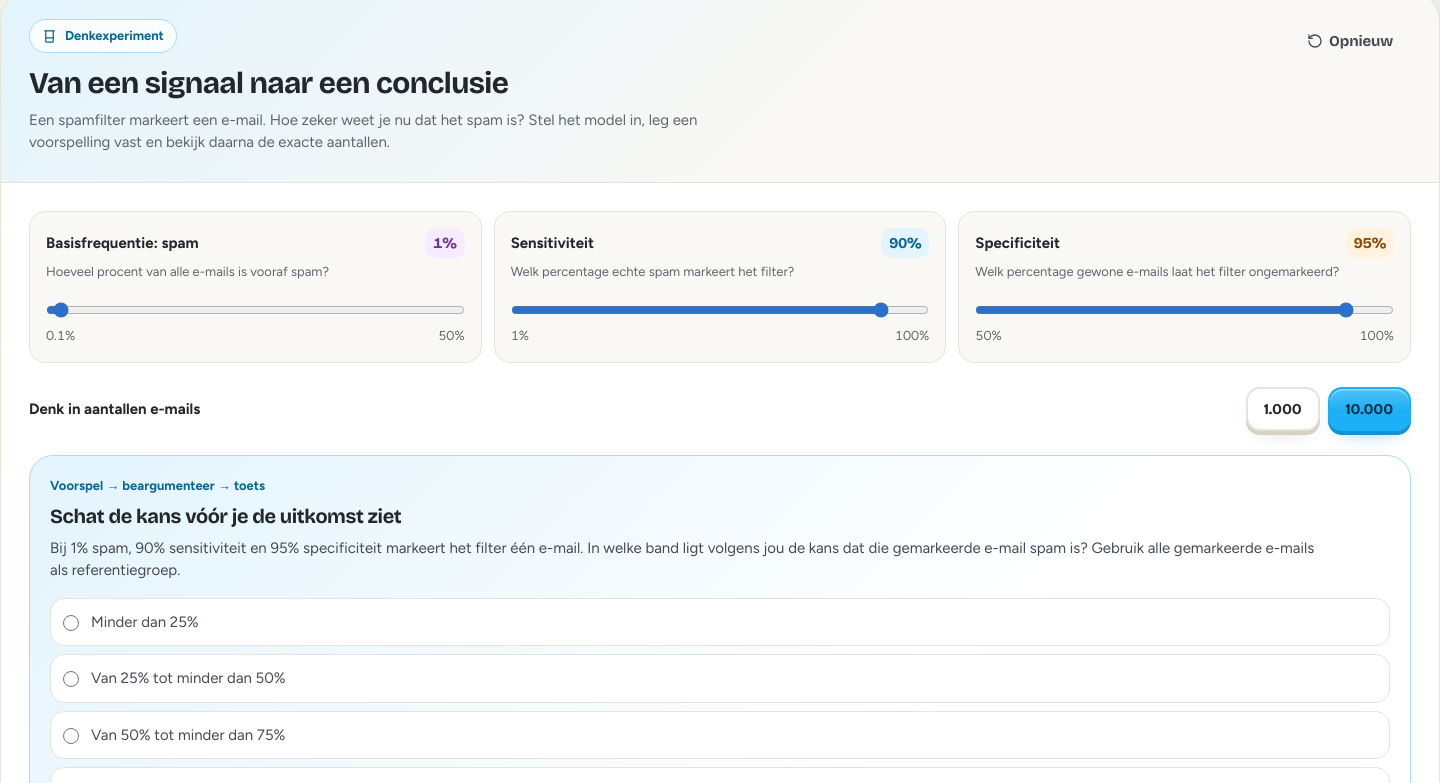
Test case: accessible argument laboratories without a canvas › does not present rare expected positives as impossible events
Click the button "1.000": (1283, 409) left=1246, top=387, right=1320, bottom=431
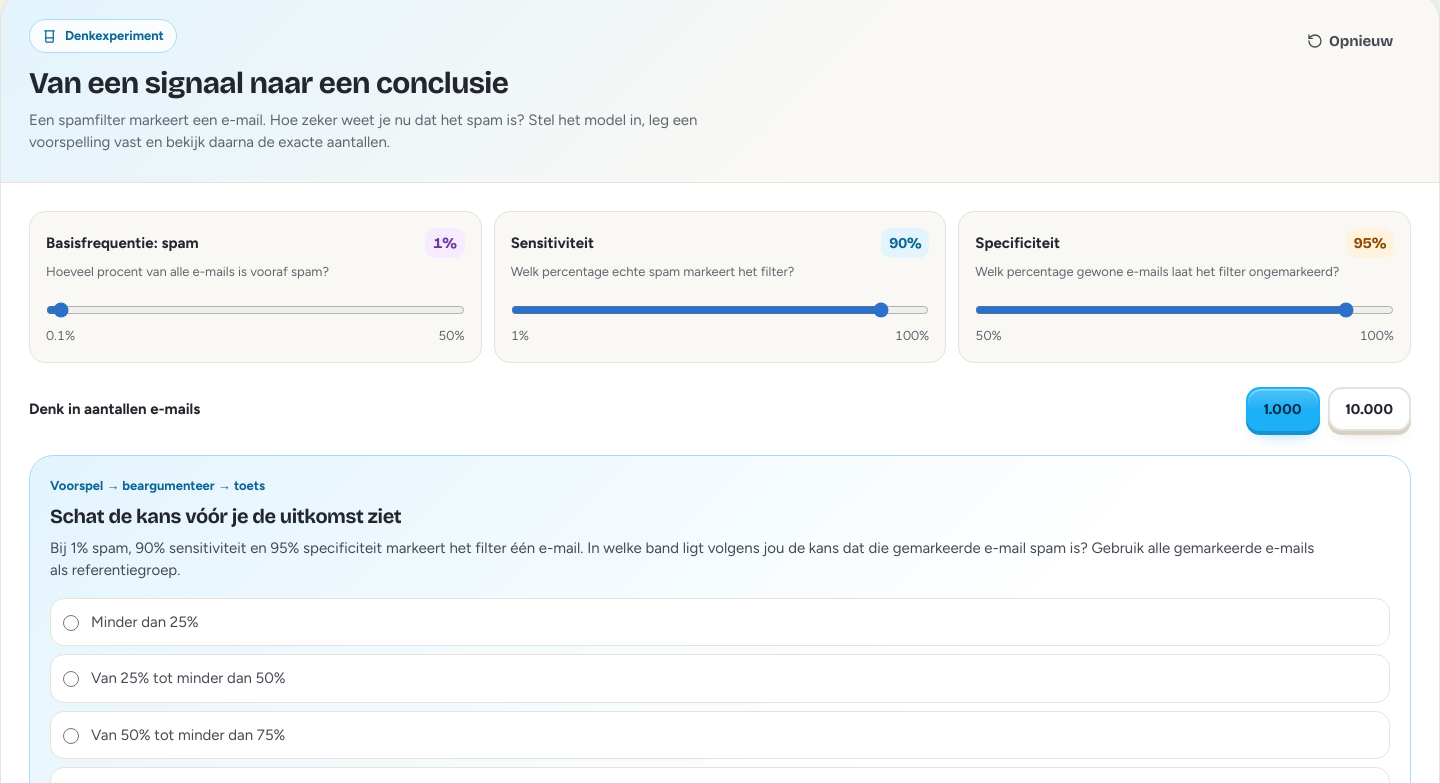
Set the slider labelled "Basisfrequentie: spam" to "0.1": (54, 310) left=46, top=294, right=465, bottom=326
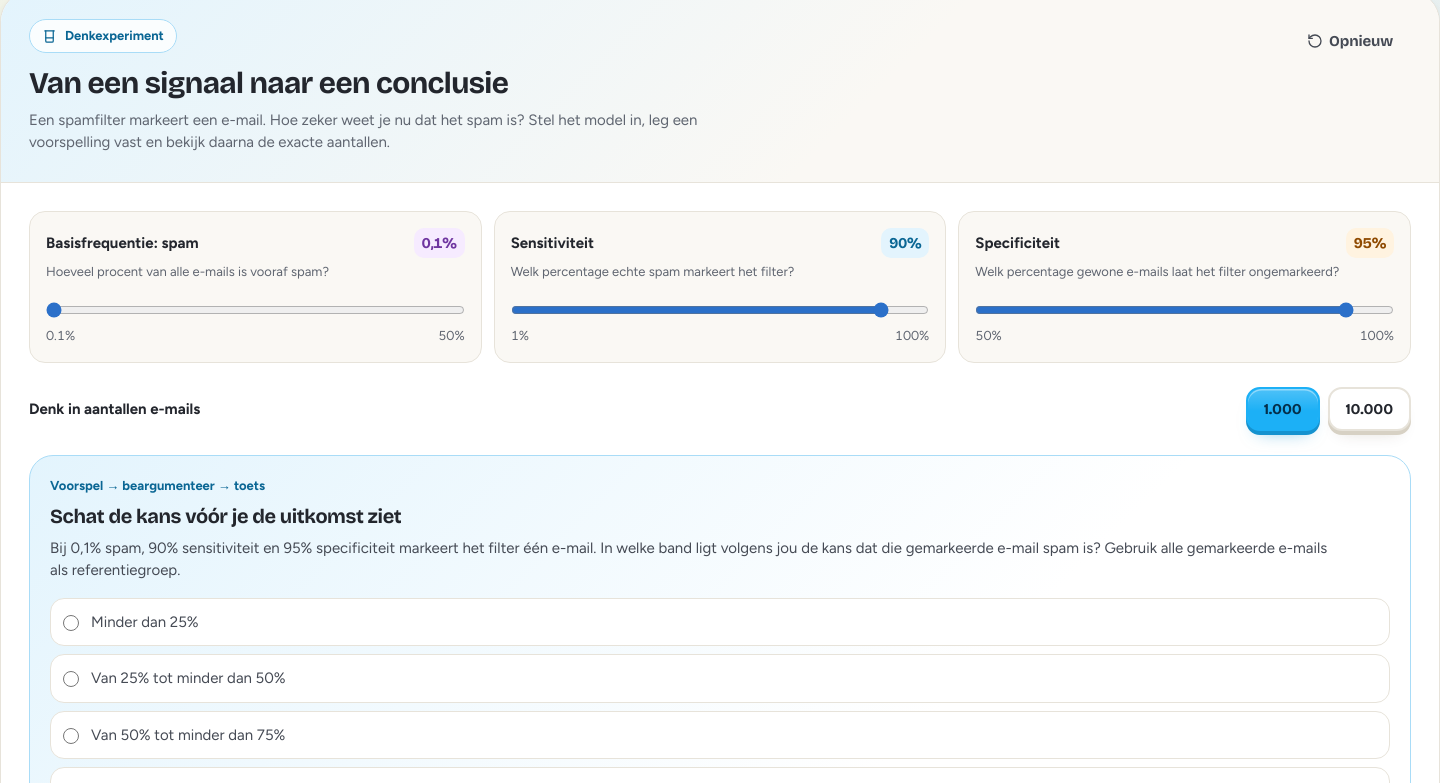
Set the slider labelled "Sensitiviteit" to "1": (519, 310) left=511, top=294, right=929, bottom=326
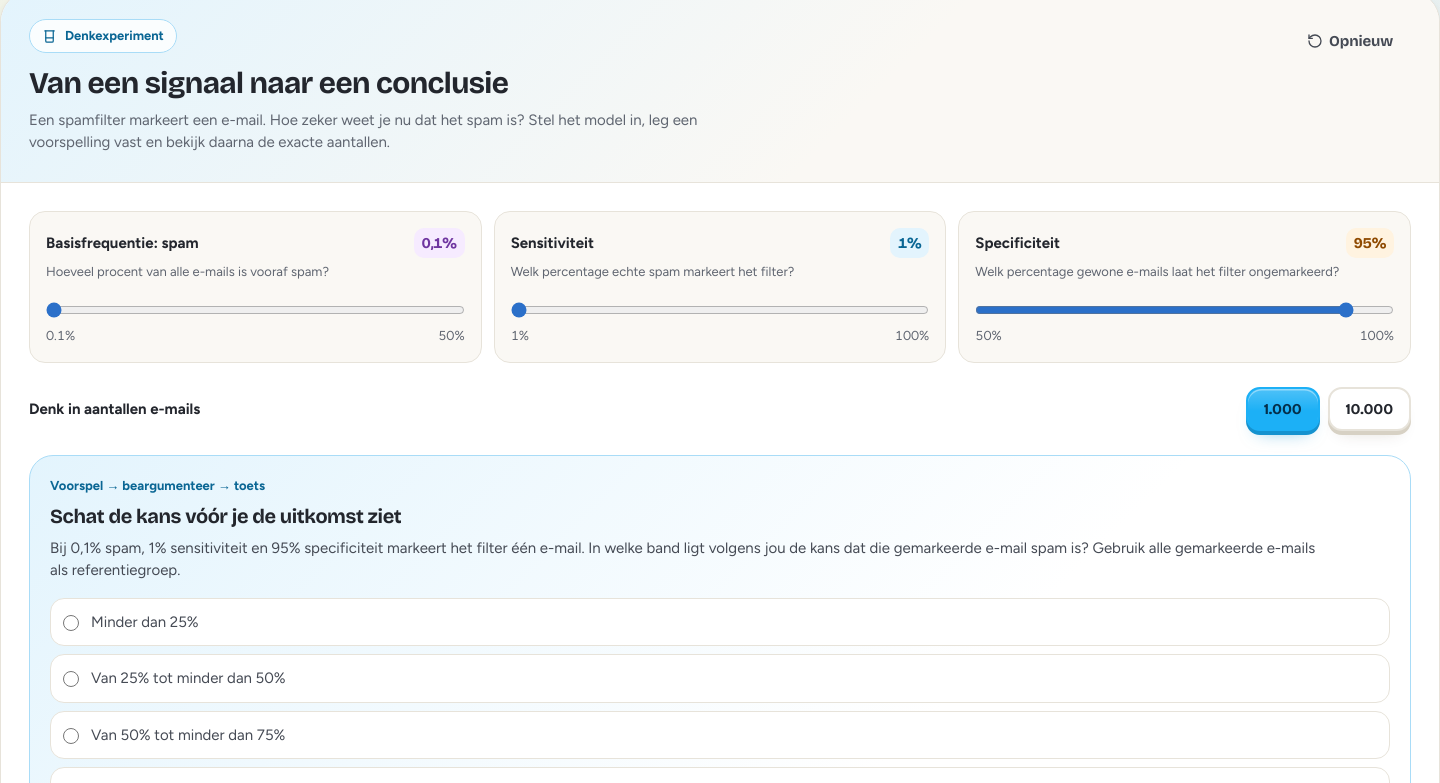
Click the radio button labelled "Minder dan 25%": (71, 623) left=63, top=615, right=79, bottom=631
(page scrolled)
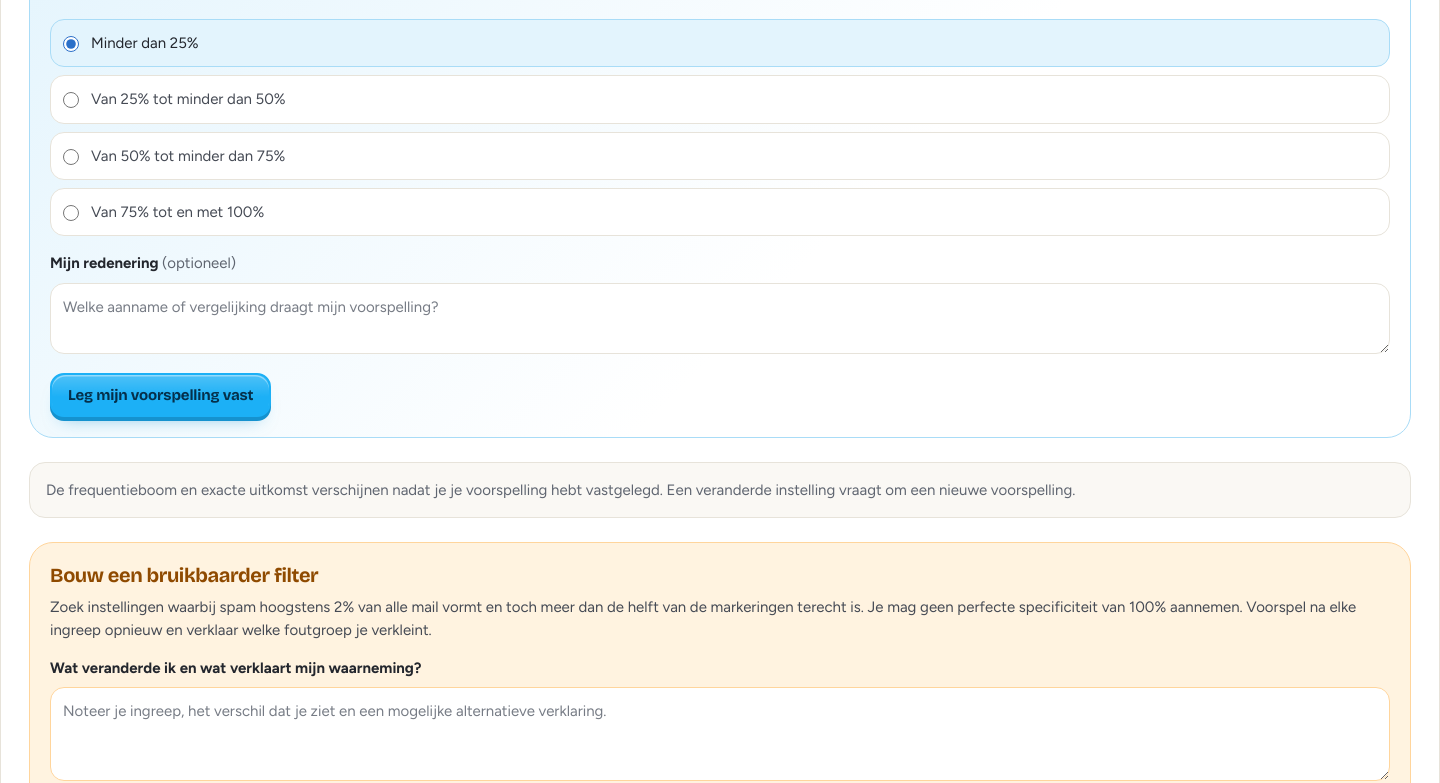
Click the button "Leg mijn voorspelling vast": (161, 395) left=50, top=373, right=271, bottom=417
(page scrolled)
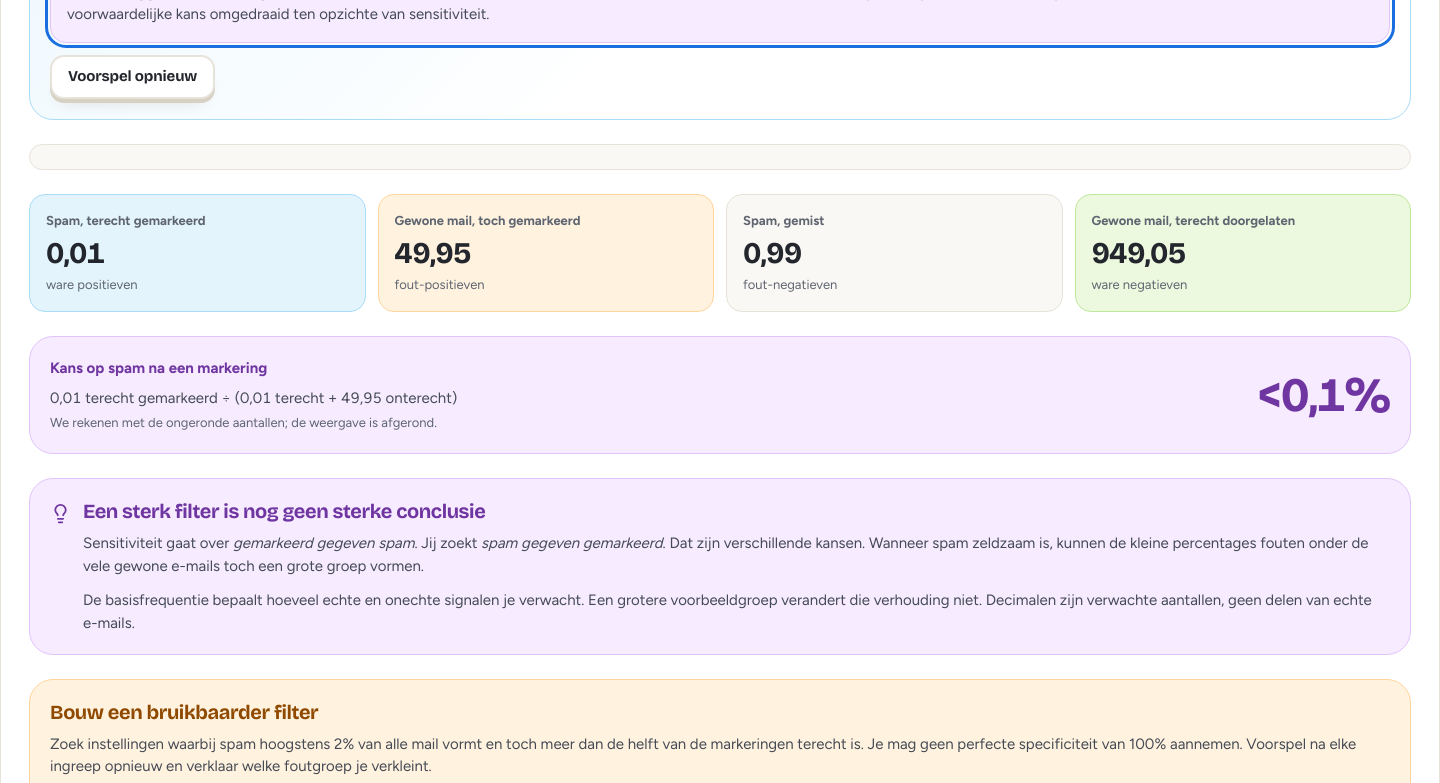
Check: the text "0,01" is shown, box left=46, top=235, right=105, bottom=271
Check: the text "<0,1%" is shown, box left=1257, top=371, right=1390, bottom=419
